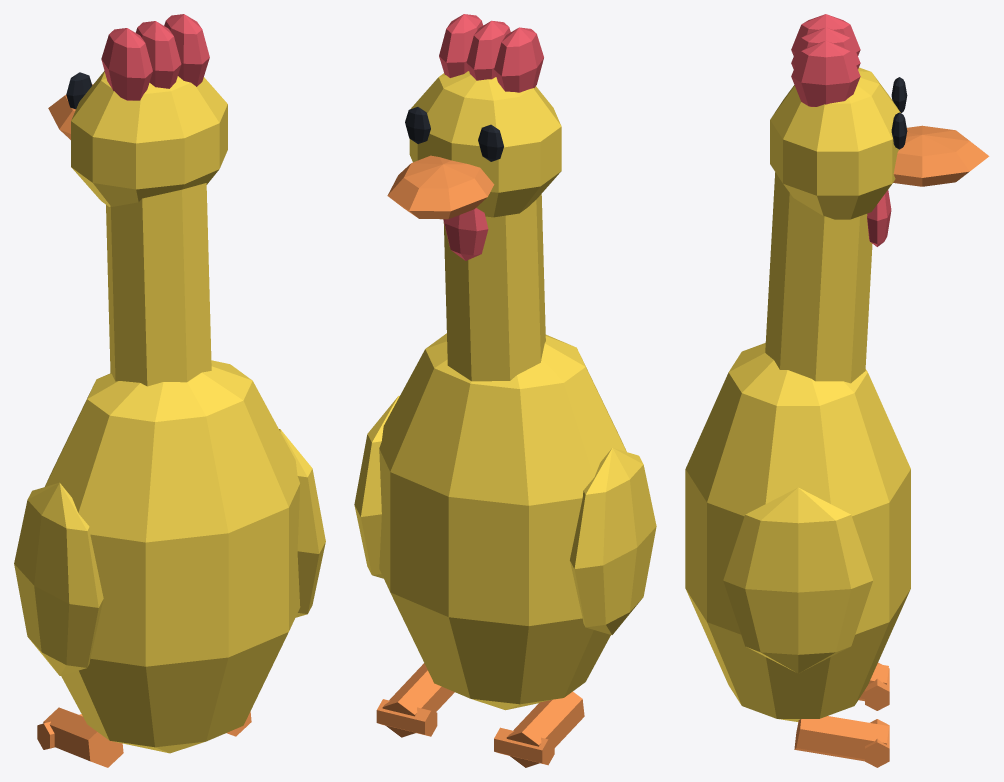
File: bounce.glb
The picture shows the model from 3 angles, left to right: view 1: azimuth 30°, elevation 25°; view 2: azimuth 150°, elevation 25°; view 3: azimuth 270°, elevation 25°; orthographic projection. The views are drawn at different scales.
Parts seen in each view (by area): view 1: bounce; view 2: bounce; view 3: bounce.
Part boxes in pixels (x1=…): bounce: x1=14, y1=14, x2=325, y2=767; bounce: x1=354, y1=14, x2=656, y2=767; bounce: x1=685, y1=14, x2=989, y2=767.
Size of the model in its own units: 0.3795 by 0.98 by 0.3821.
